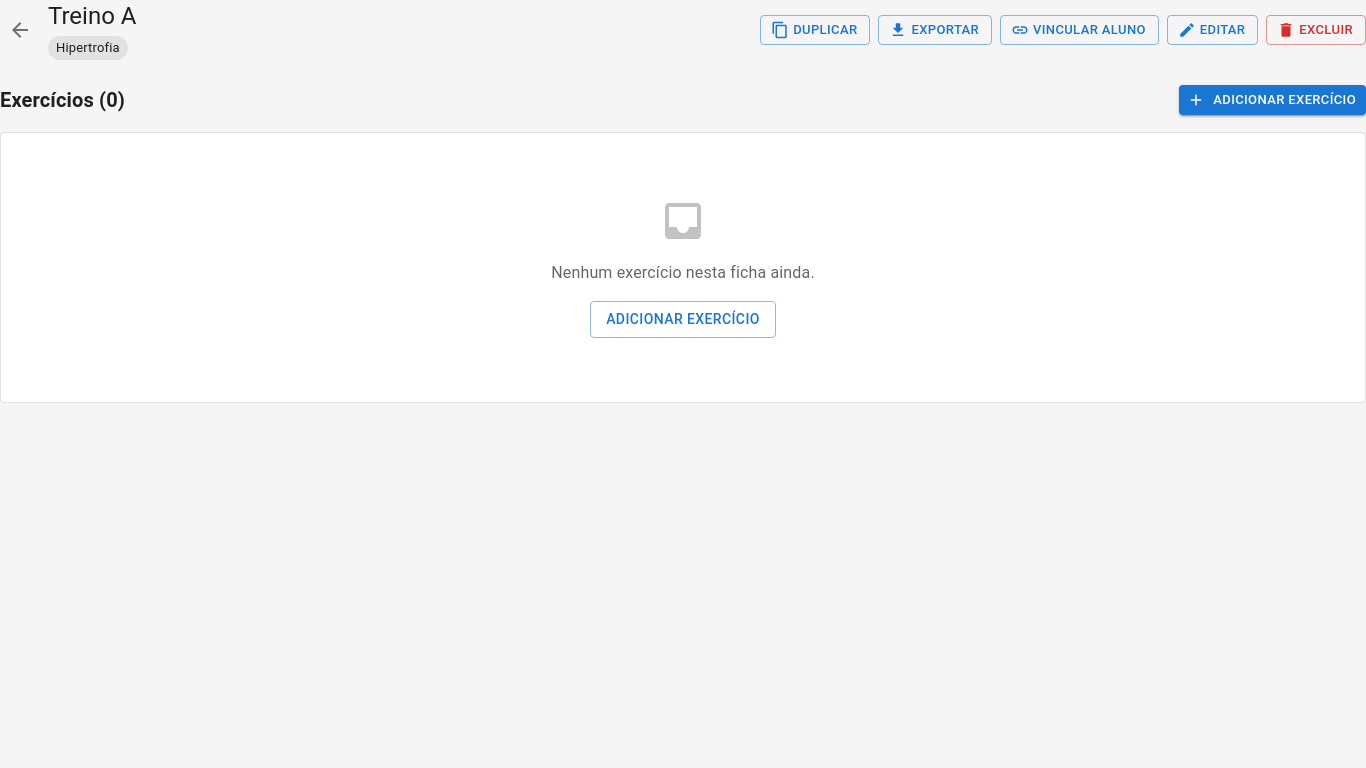
it: DetalheFichaPage — ficha sem exercícios › mostra EmptyState e a ação abre o diálogo de adicionar exercício
Expected: the text "Nenhum exercício nesta ficha ainda." is shown, top-left (551, 261), bottom-right (815, 285)
Click the button "Adicionar exercício" below "Nenhum exercício nesta ficha ainda.": x=683, y=319 top-left (590, 301), bottom-right (776, 338)
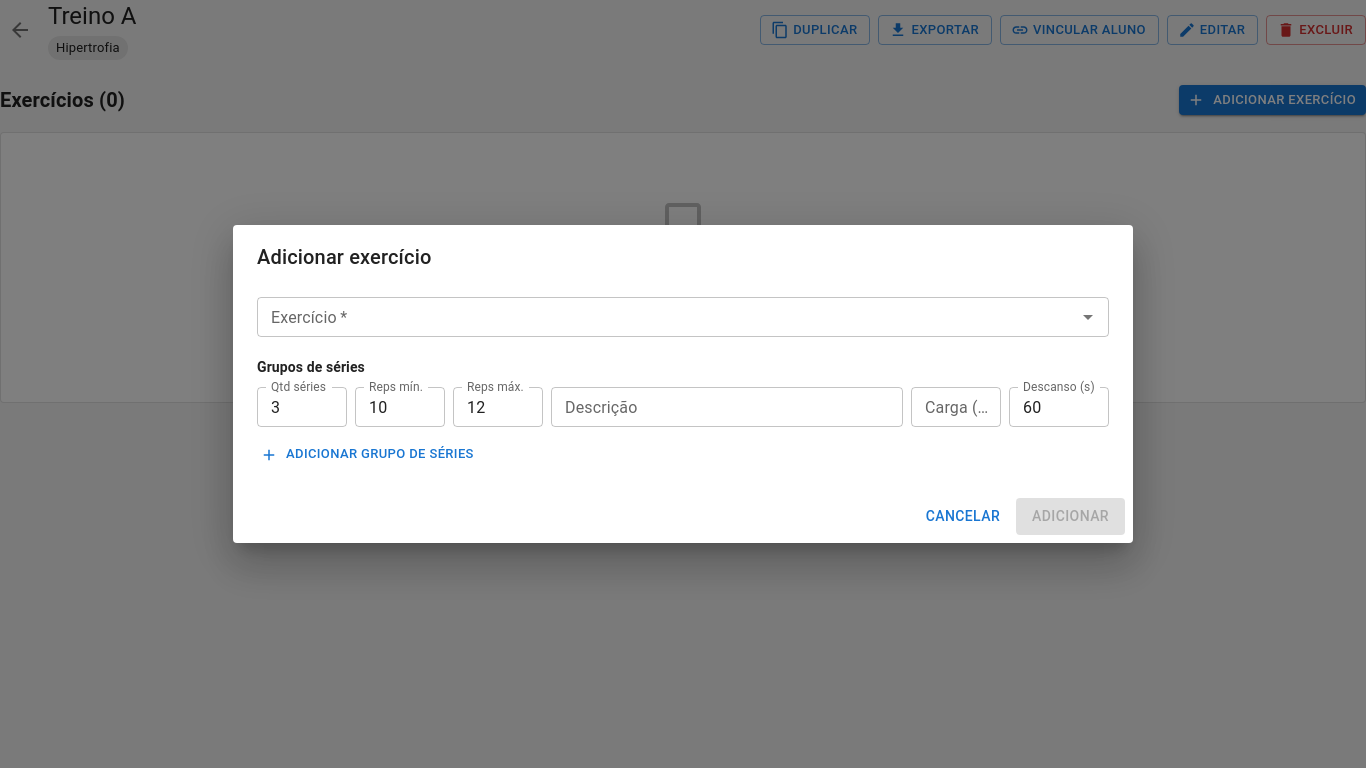
Result: the dialog is shown at top-left (233, 225), bottom-right (1133, 543)
